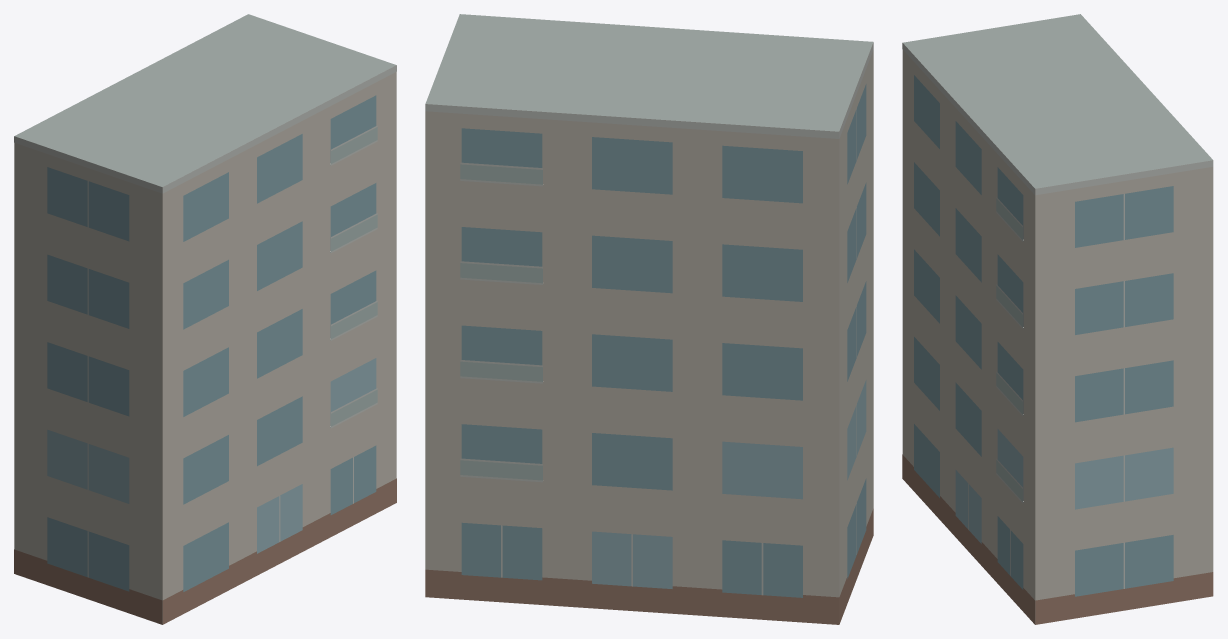
The model's file is survey-upis-32834170.glb.
The picture shows the model from 3 angles, left to right: view 1: azimuth 30°, elevation 25°; view 2: azimuth 150°, elevation 25°; view 3: azimuth 270°, elevation 25°; orthographic projection. The views are drawn at different scales.
Parts seen in each view (by area): view 1: survey-upis-32834170.tmp; view 2: survey-upis-32834170.tmp; view 3: survey-upis-32834170.tmp.
Boxes of the visible parts, x1,y1,x2,y2 form: survey-upis-32834170.tmp: (14,14,396,624); survey-upis-32834170.tmp: (425,14,873,624); survey-upis-32834170.tmp: (902,14,1213,624).
Size of the model in its own units: 14.16 by 16.45 by 10.64.
